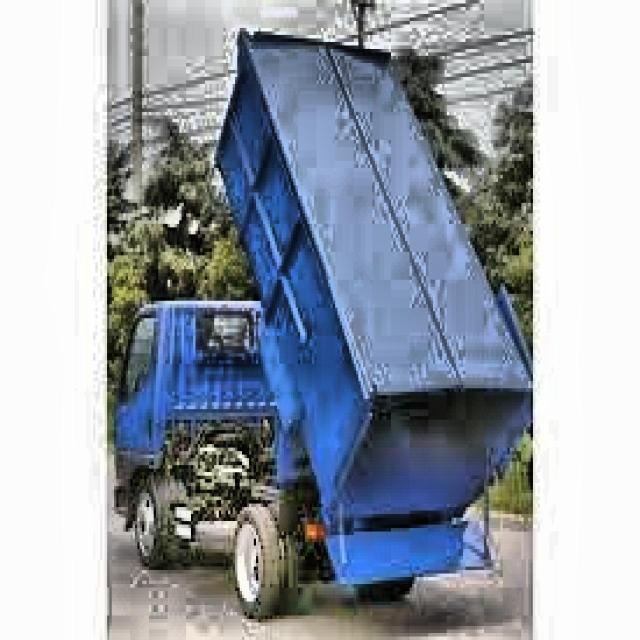dump_truck: (113, 26, 529, 624)
